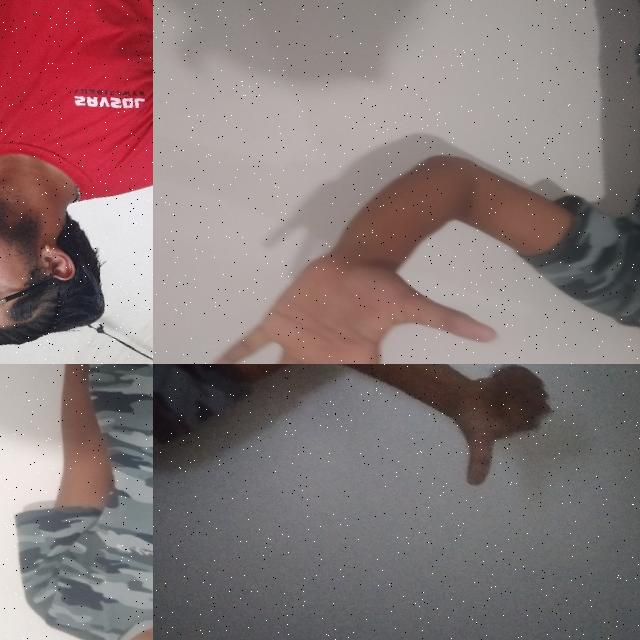Chin Flick: (0, 121, 101, 364)
Moutza: (192, 225, 513, 364)
Thumbs Up: (429, 364, 575, 506)
